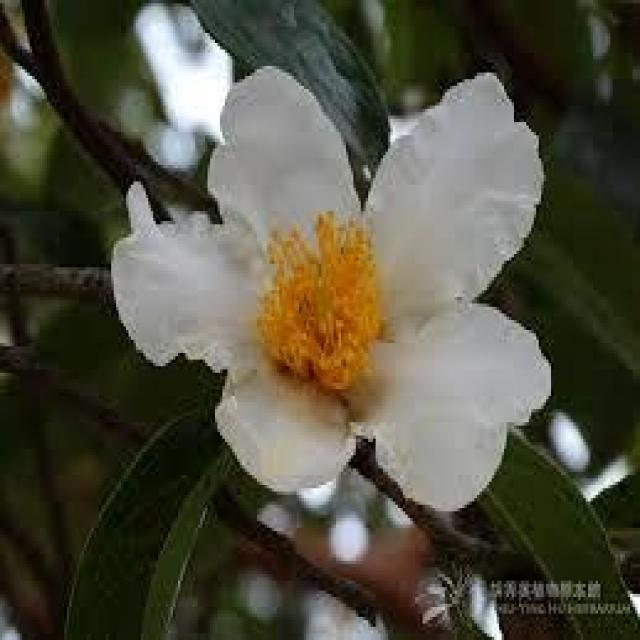organic waste: (118, 58, 558, 542)
